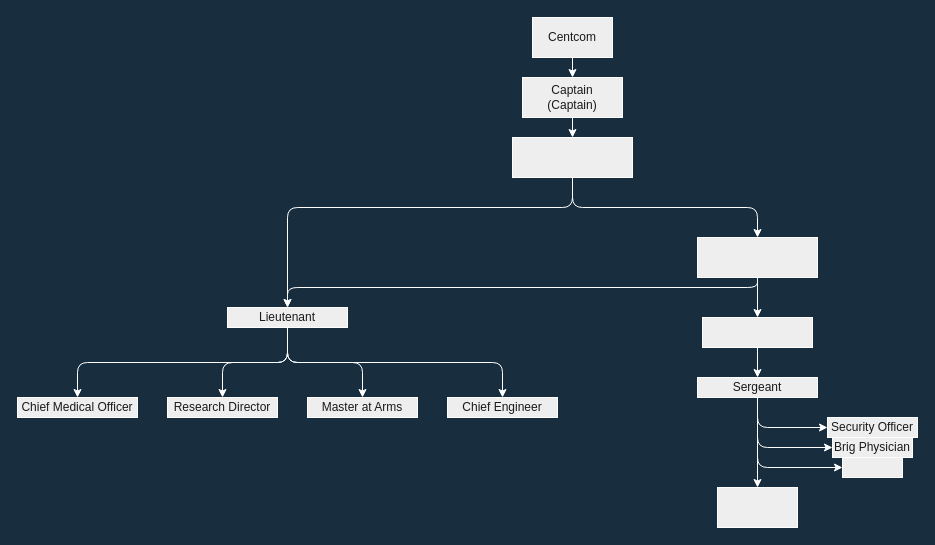
Image size: 935x545. Some labels were removed from this diagram. The shapes that lost their labels are listed below. From the top down, each one's centre as x and y in pixels, then its label:
At point (572, 157): "Lieutenant Commander (Executive Officer)".
At point (757, 257): "First Lieutenant (Head of Security)".
At point (757, 332): "Gunnery Sergeant (Warden)".
At point (872, 467): "Detective".
At point (757, 507): "Corporal (Deputy)".
